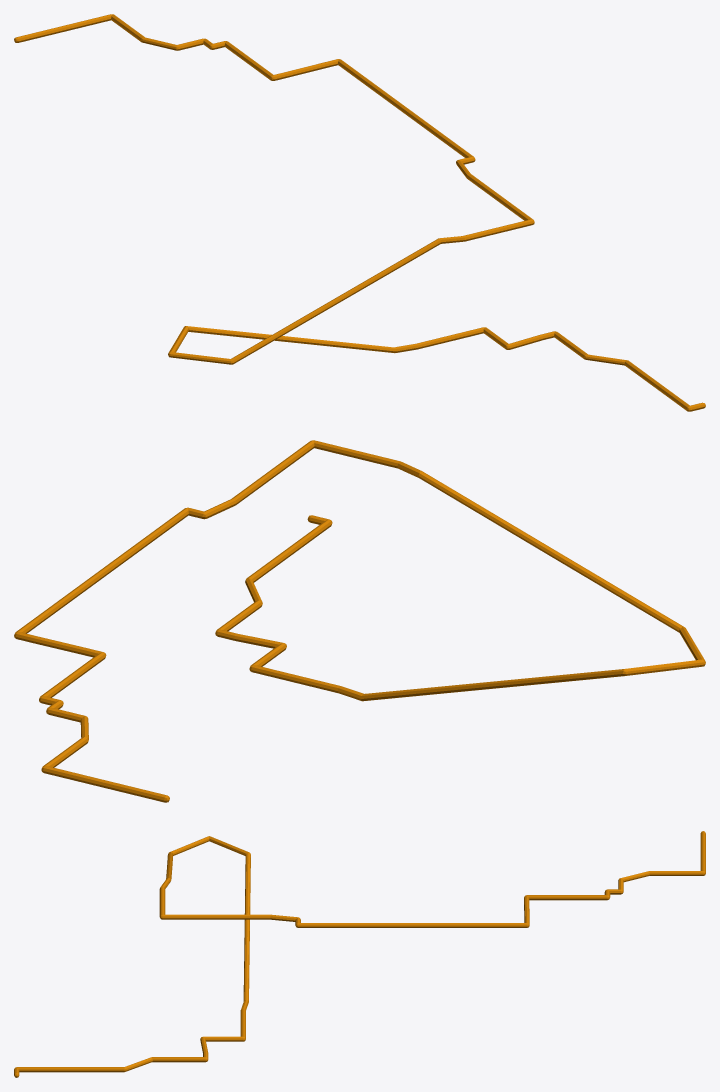
3 views of the same model, one above another, from view 1: azimuth 30°, elevation 25°; view 2: azimuth 150°, elevation 25°; view 3: azimuth 270°, elevation 25° (orthographic). The views are drawn at different scales.
Bounding box in the file's own units: 1563 × 520 × 2569.
